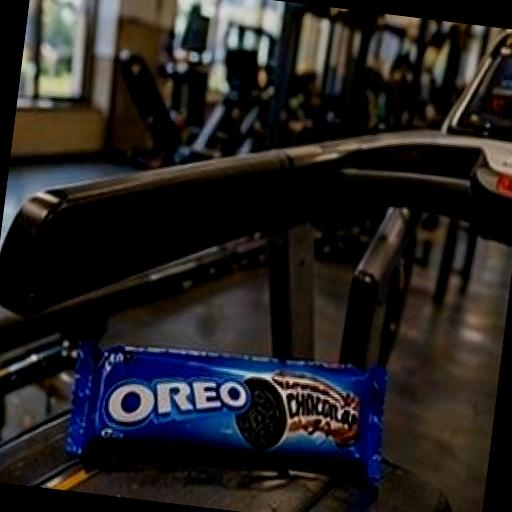oreo: (15, 280, 439, 512)
